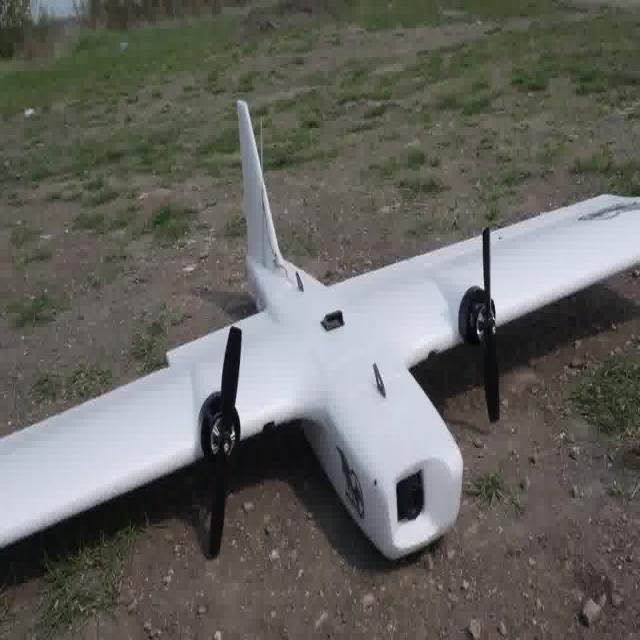iha: (0, 86, 638, 565)
